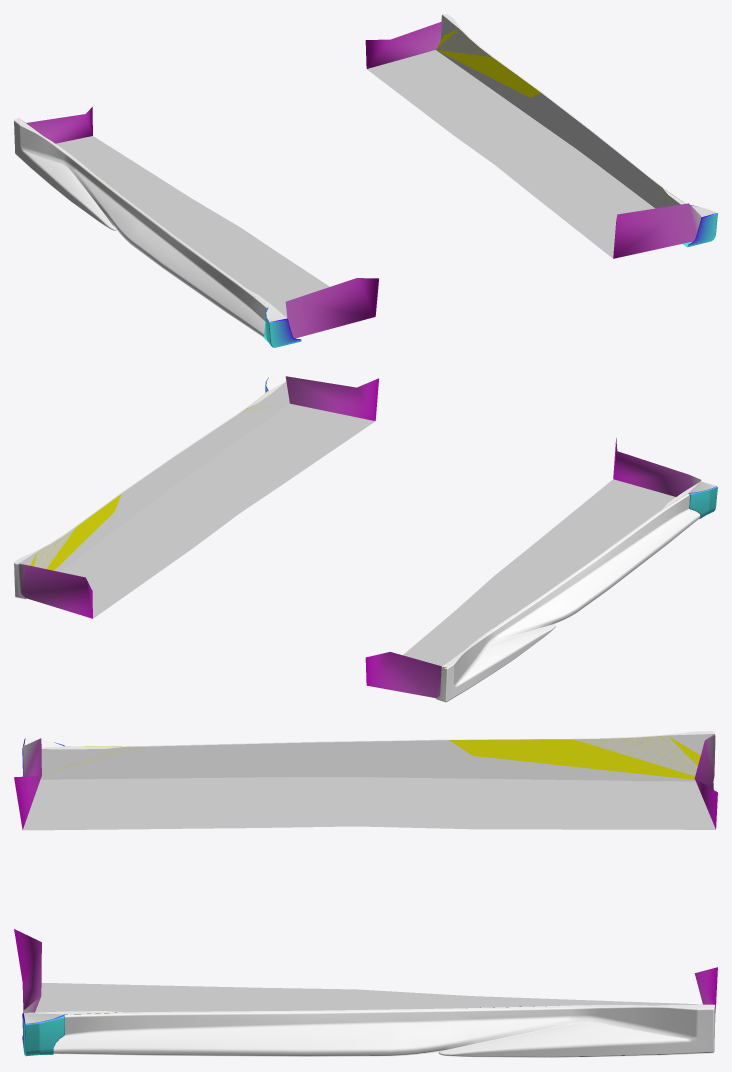
File: Car_Mini_CountrymanJCW_2017_Skirts_SetF_AltD.fbx
The picture shows the model from 3 angles, top to bottom: view 1: azimuth 30°, elevation 25°; view 2: azimuth 150°, elevation 25°; view 3: azimuth 270°, elevation 25°; orthographic projection. The views are drawn at different scales.
Parts seen in each view (by area): view 1: Skirts 6; view 2: Skirts 6; view 3: Skirts 6.
Boxes of the visible parts, box(x1,y1,x2,y2) form: Skirts 6: box(14, 14, 717, 347); Skirts 6: box(14, 376, 717, 702); Skirts 6: box(14, 731, 717, 1057).
Bounding box in the file's own units: 1.83 × 0.1912 × 1.9.
